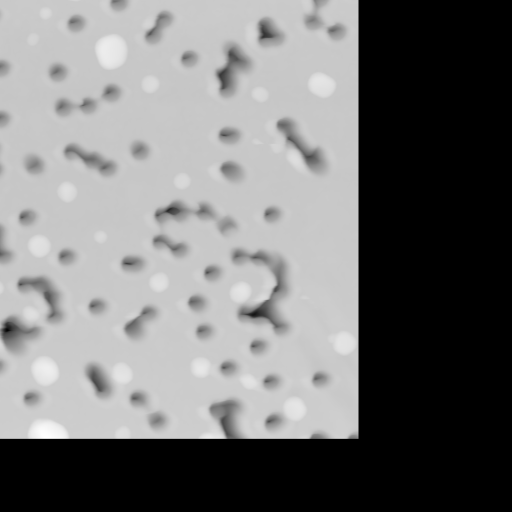Hole: (48, 80, 125, 122), (140, 198, 213, 227), (60, 139, 119, 174), (137, 3, 182, 47), (215, 42, 252, 93), (260, 245, 292, 297), (121, 299, 161, 340), (300, 134, 337, 176), (215, 394, 251, 437), (228, 243, 291, 266), (258, 296, 296, 332), (15, 275, 68, 298), (79, 362, 111, 400), (0, 320, 40, 348), (280, 111, 307, 151), (115, 248, 144, 282), (42, 283, 67, 322), (21, 145, 51, 177), (255, 13, 285, 45), (124, 385, 158, 413), (151, 234, 190, 258), (305, 0, 333, 31), (306, 362, 336, 390), (260, 369, 293, 393), (0, 219, 17, 264), (129, 134, 158, 159), (175, 46, 200, 74), (184, 287, 208, 315), (218, 205, 241, 234), (145, 404, 167, 434), (258, 198, 283, 224), (85, 291, 112, 315), (47, 57, 72, 82), (51, 243, 75, 268), (214, 122, 239, 146), (255, 412, 283, 433), (237, 301, 269, 319), (215, 354, 240, 377), (294, 424, 338, 437), (219, 156, 244, 178), (19, 385, 40, 411), (0, 135, 10, 188), (199, 261, 224, 282), (19, 203, 38, 230), (247, 337, 270, 359), (324, 18, 347, 40), (193, 317, 218, 337), (63, 8, 84, 31), (0, 51, 15, 79), (99, 0, 151, 8), (0, 106, 16, 129), (0, 351, 7, 375), (0, 0, 2, 26), (338, 0, 358, 1)
Particle: (90, 27, 133, 71), (24, 350, 65, 392), (304, 63, 343, 101), (19, 417, 79, 437), (323, 327, 358, 353), (23, 231, 55, 258), (227, 275, 254, 305), (137, 68, 165, 96), (280, 393, 307, 421), (187, 352, 214, 379), (110, 357, 134, 387), (57, 178, 81, 203), (31, 1, 57, 24), (149, 267, 170, 294), (171, 166, 194, 190), (21, 27, 44, 49), (251, 82, 271, 104), (240, 369, 259, 388), (21, 301, 38, 320), (93, 227, 108, 247), (112, 425, 133, 437), (195, 427, 215, 437), (0, 276, 5, 299), (58, 0, 88, 3)
Smear: (250, 135, 280, 151), (293, 289, 316, 304)
